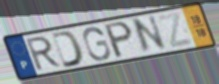D: (50, 29, 86, 70)
G: (81, 26, 112, 62)
N: (130, 13, 169, 57)
P: (103, 20, 135, 61)
R: (25, 34, 64, 73)
Z: (156, 10, 196, 50)
